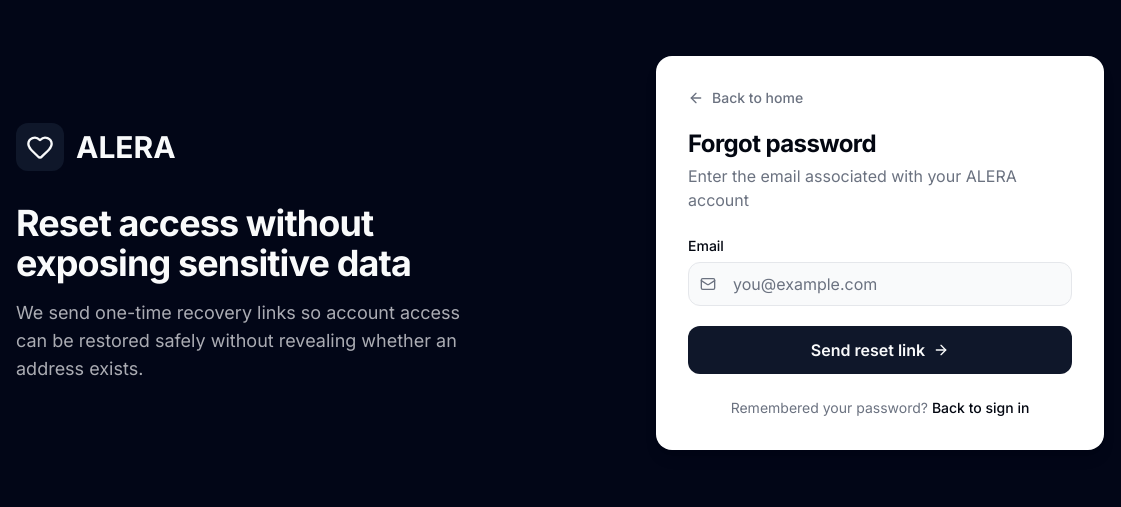
Test: Recovery flows › submits the forgot-password request
Type "patient@example.com" into the field with placeholder "you@example.com" at point(880, 284), box 688,262 -> 1072,306
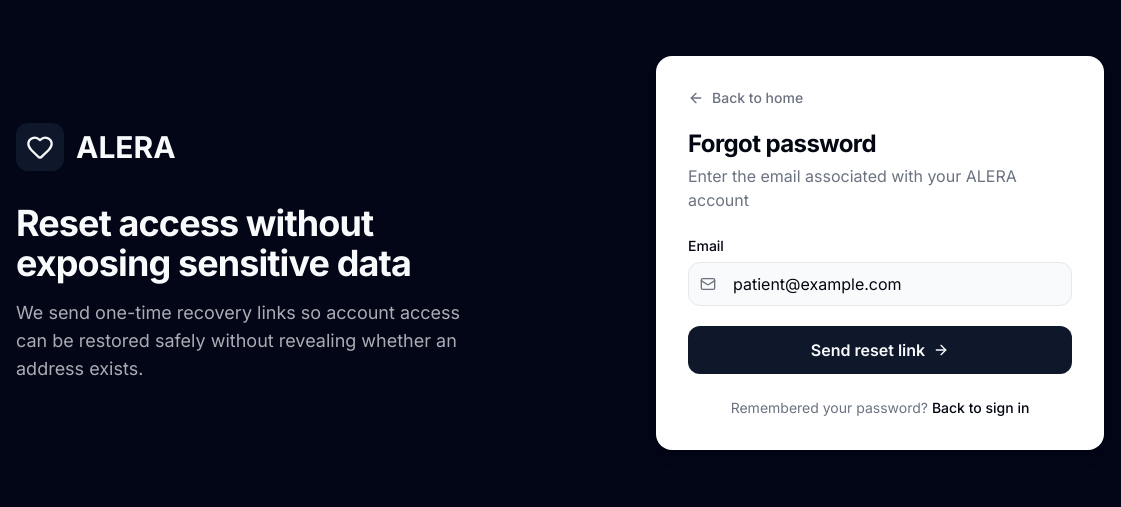
Click the button "Send reset link" at point(880, 350), box 688,326 -> 1072,374
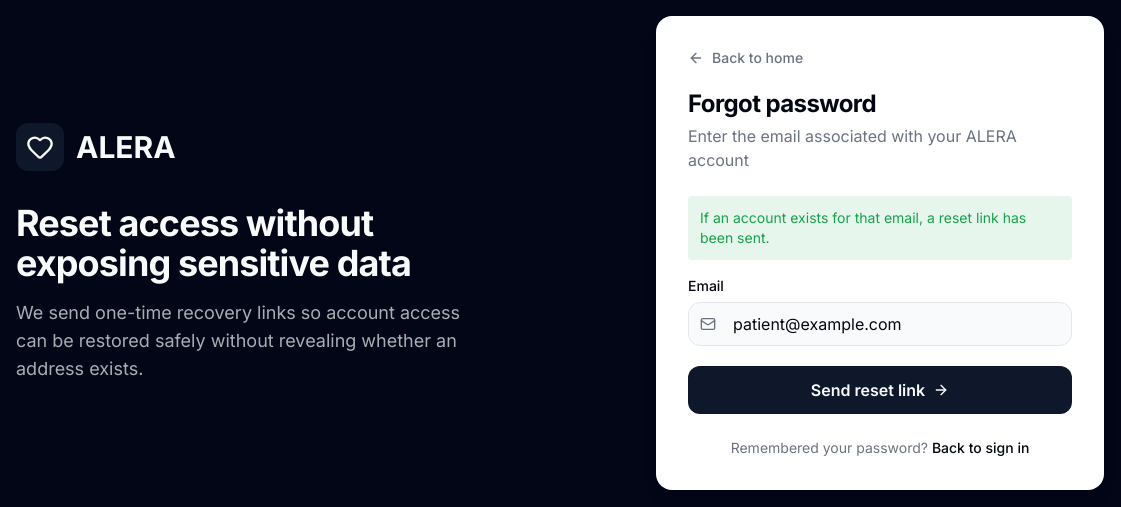
Now the text "reset link has been sent" is shown, box 700,209 -> 1026,246
